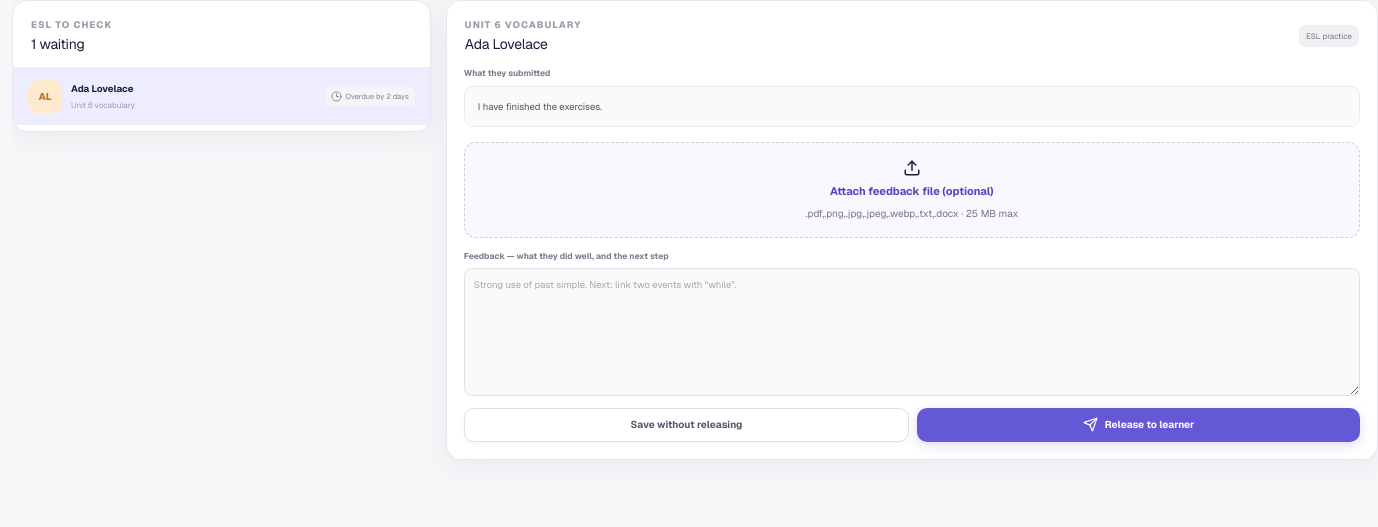
Scenario: homework checking › refuses to save empty feedback
Click the button "Save without releasing": (686, 425) left=464, top=408, right=909, bottom=442
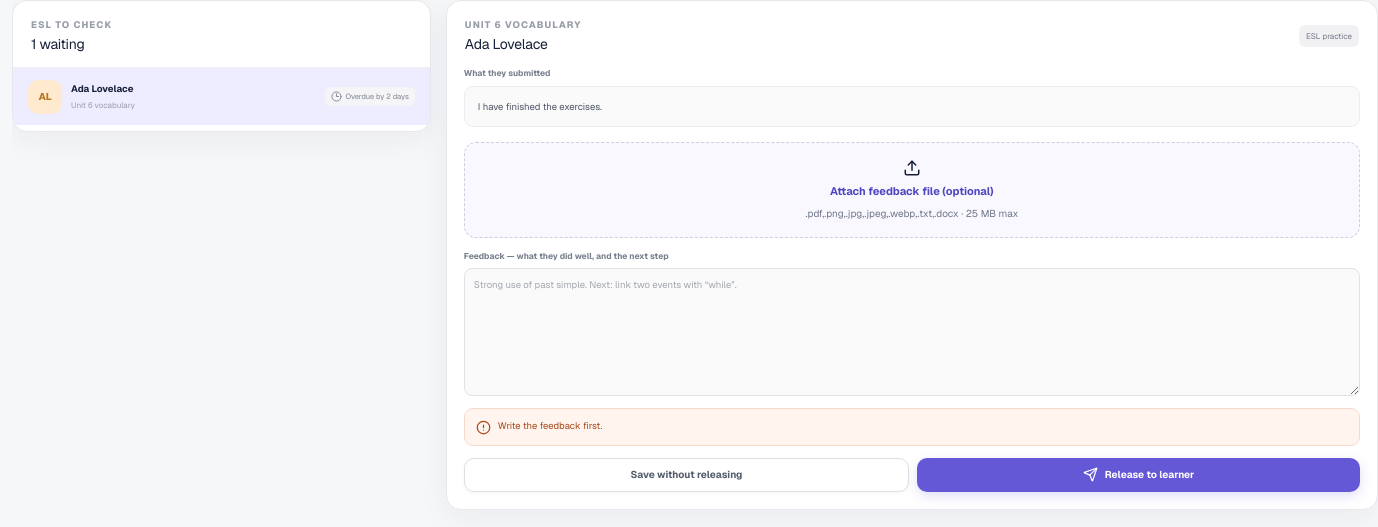
Check: the message "Write the feedback first." is shown, box left=464, top=408, right=1360, bottom=446
